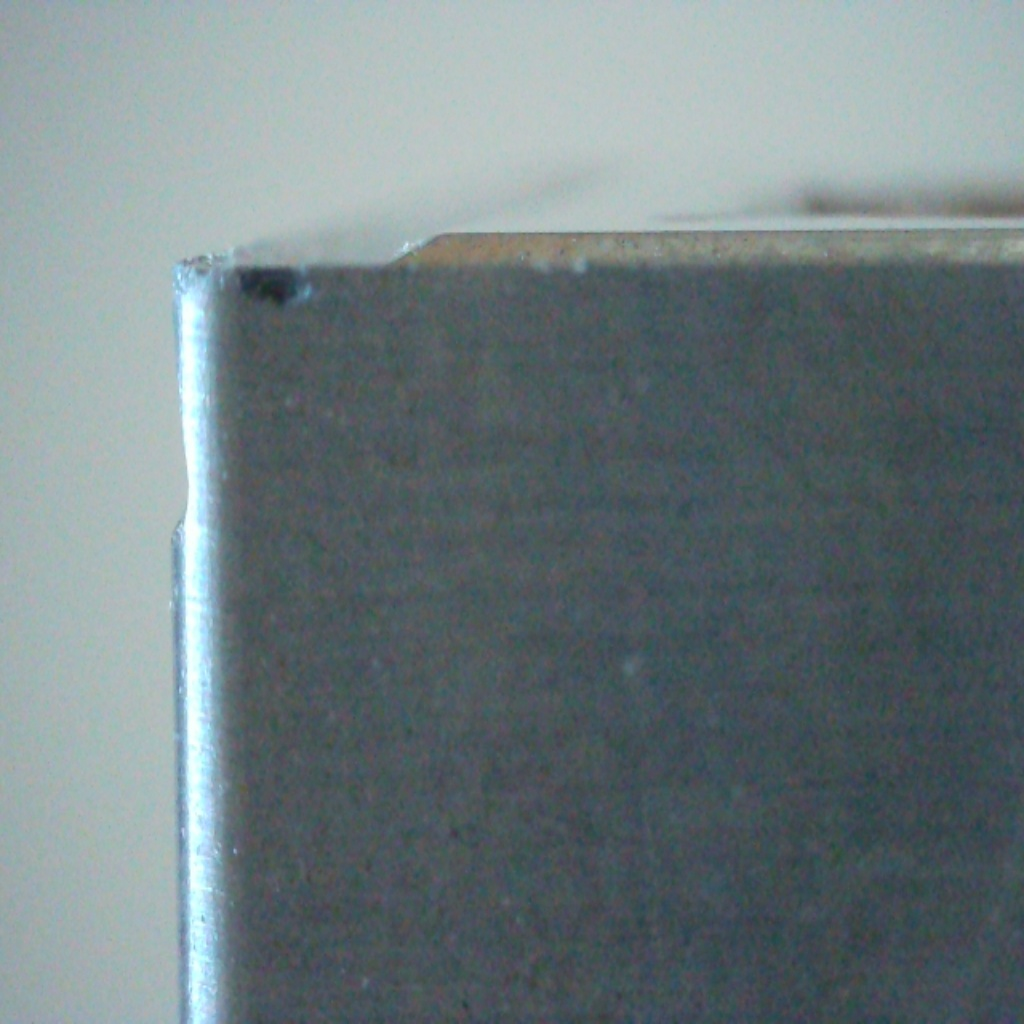flank_wear: (234, 263, 320, 316)
